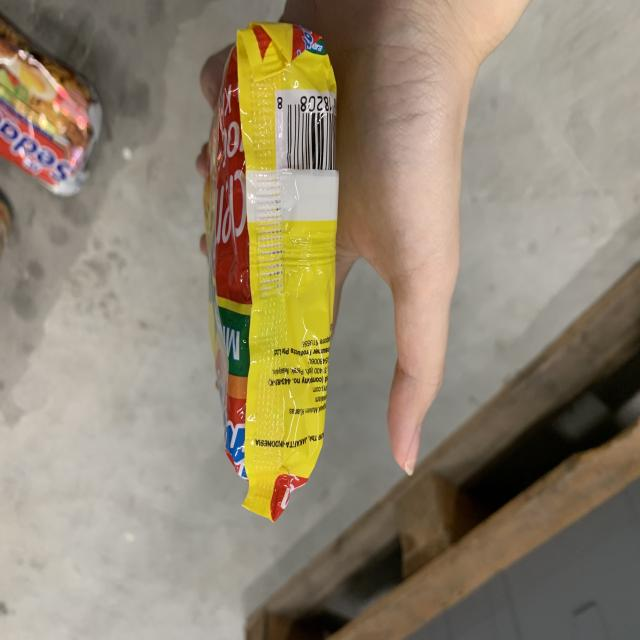object_name: (220, 37, 321, 495)
